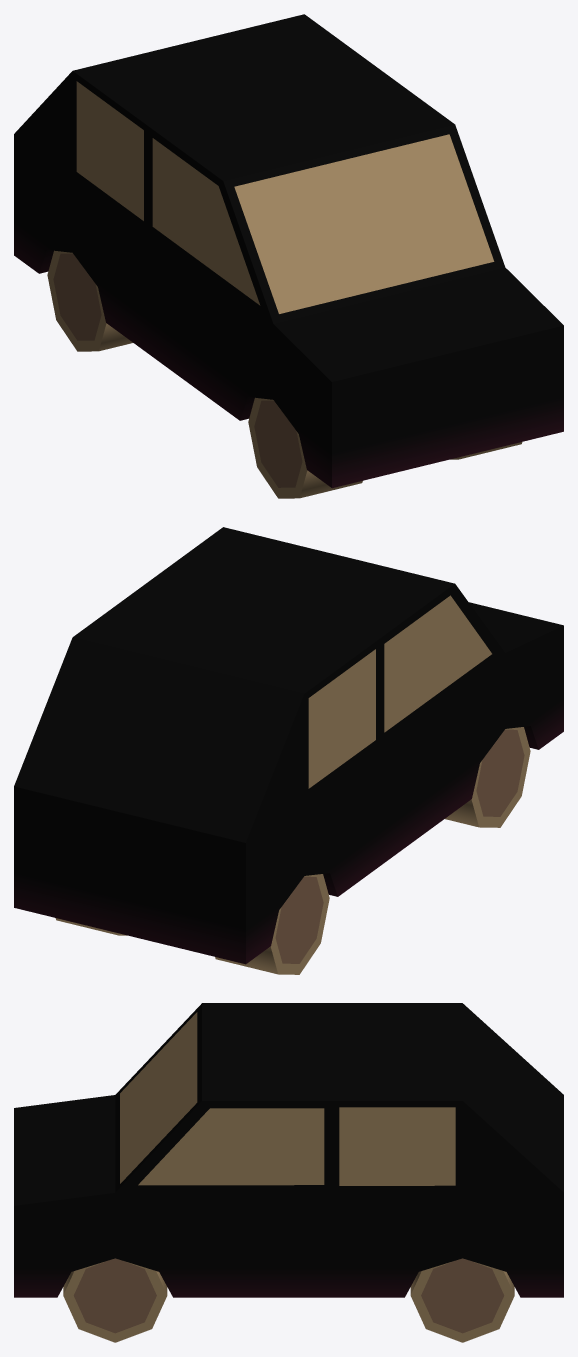
File: RedCar.fbx
3 views of the same model, one above another, from view 1: azimuth 30°, elevation 25°; view 2: azimuth 150°, elevation 25°; view 3: azimuth 270°, elevation 25° (orthographic). The views are drawn at different scales.
Parts seen in each view (by area): view 1: Cube, Circle, Circle.001; view 2: Cube, Circle.001, Circle; view 3: Cube, Circle, Circle.001.
Part boxes in pixels (box(x1,y1,x2,y2)): Cube: box(14, 14, 563, 488); Circle: box(248, 397, 522, 498); Circle.001: box(47, 250, 132, 351); Cube: box(14, 527, 563, 964); Circle.001: box(55, 874, 329, 974); Circle: box(445, 727, 530, 827); Cube: box(14, 1003, 563, 1297); Circle: box(63, 1258, 167, 1342); Circle.001: box(410, 1258, 514, 1342).
Bounding box in the file's own units: 160 × 186 × 380.
